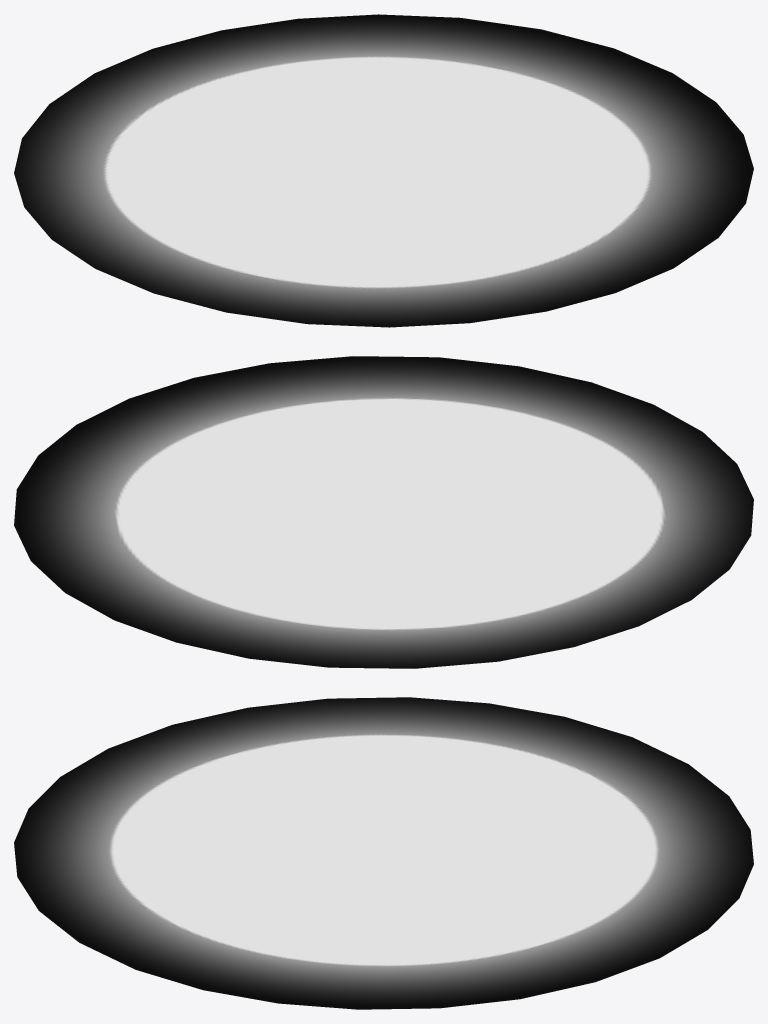
3 views of the same model, one above another, from view 1: azimuth 30°, elevation 25°; view 2: azimuth 150°, elevation 25°; view 3: azimuth 270°, elevation 25° (orthographic).
Parts seen in each view (by area): view 1: Circle01; view 2: Circle01; view 3: Circle01.
Part boxes in pixels (box(x1,y1,x2,y2)): Circle01: box(14, 14, 753, 327); Circle01: box(14, 356, 753, 668); Circle01: box(14, 697, 753, 1009).
Bounding box in the file's own units: 133 × 0 × 133.
